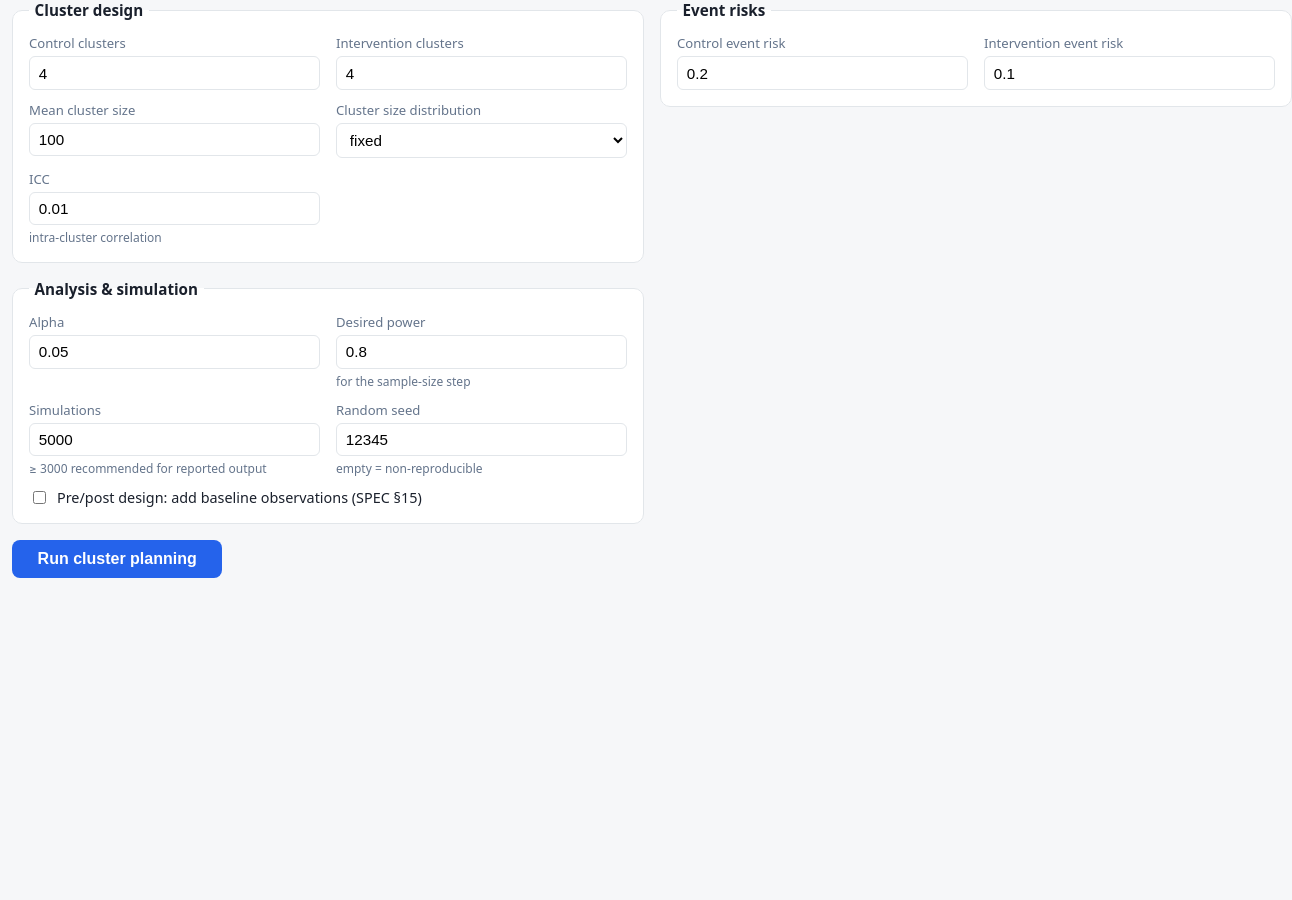
ClusterTrials pre/post design › runs the pre/post pair when enabled and renders the comparison
Click the checkbox with test id "pre-post-toggle": (40, 498) x1=33 y1=491 x2=46 y2=504
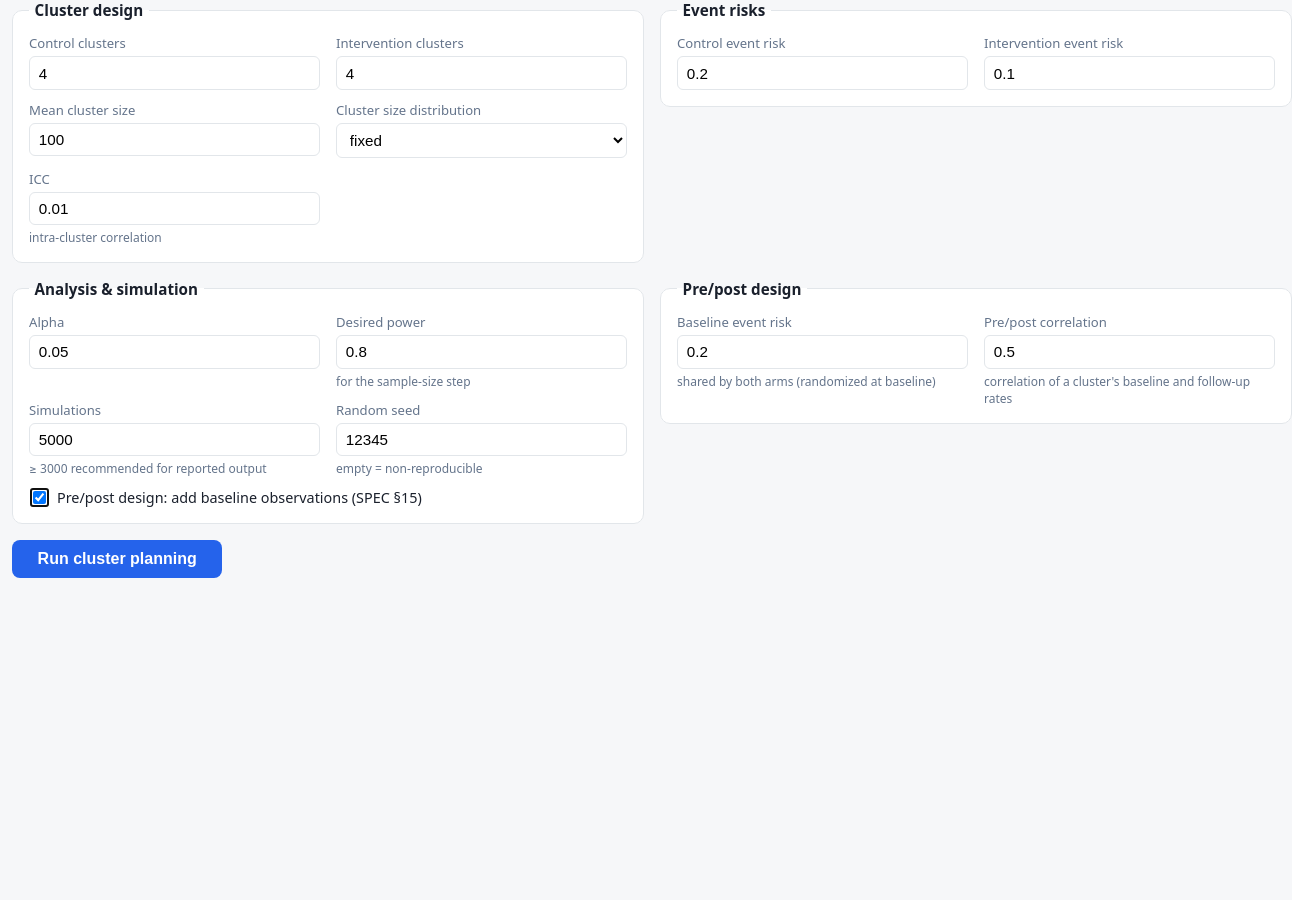
Click the button with test id "run-button": (117, 559) x1=12 y1=540 x2=222 y2=578
(page scrolled)
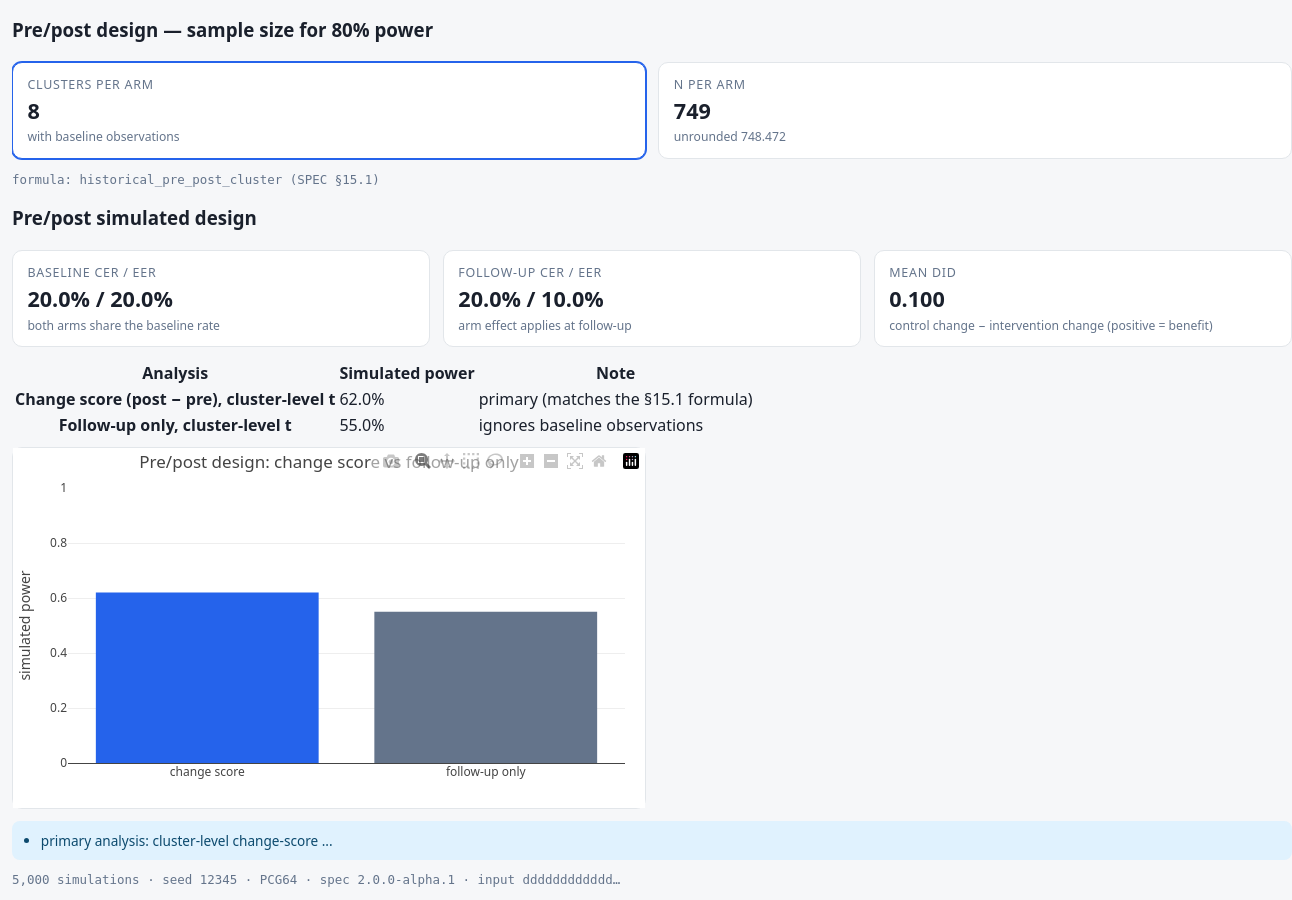
Expected: the element with test id "pre-post-results" is shown
Expected: the text "8" is shown, x1=27 y1=96 x2=40 y2=125
Expected: the table with test id "pre-post-analysis-table" shows "62.0%", x1=339 y1=388 x2=384 y2=410
